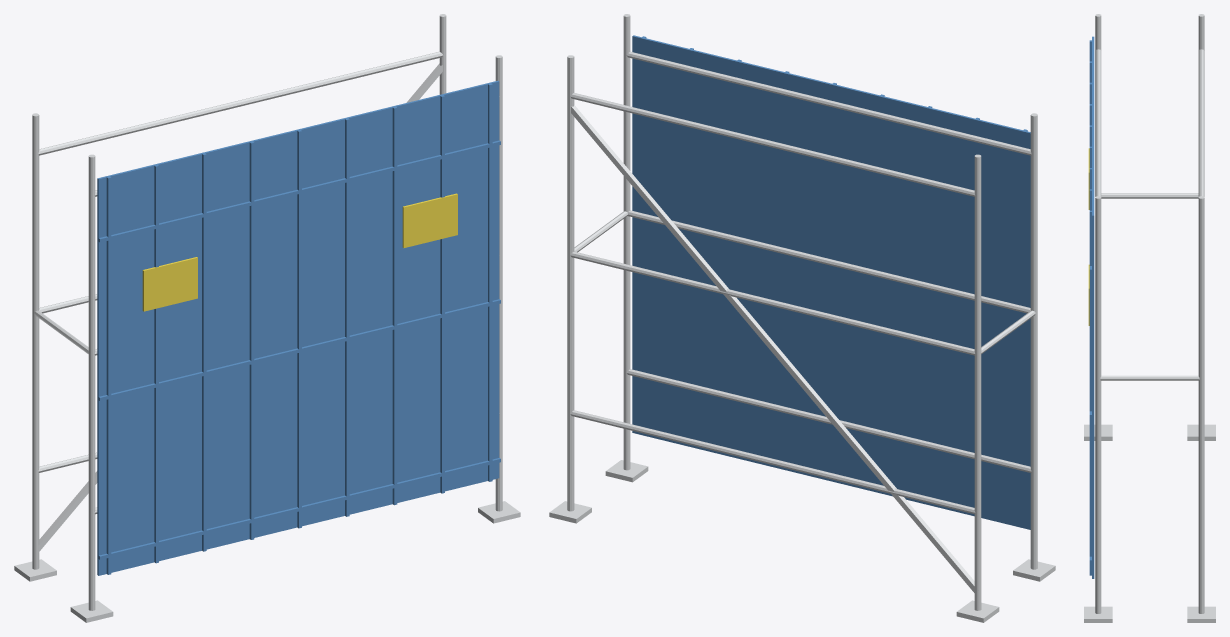
The model's file is demolition-and-site-clearance-demolition-and-site-clea-210c870a__35671.glb.
The picture shows the model from 3 angles, left to right: view 1: azimuth 30°, elevation 25°; view 2: azimuth 150°, elevation 25°; view 3: azimuth 270°, elevation 25°; orthographic projection. The views are drawn at different scales.
Parts seen in each view (by area): view 1: demolition-and-site-clearance-debris-netting-scaffold-bay; view 2: demolition-and-site-clearance-debris-netting-scaffold-bay; view 3: demolition-and-site-clearance-debris-netting-scaffold-bay.
Boxes of the visible parts, x1,y1,x2,y2 form: demolition-and-site-clearance-debris-netting-scaffold-bay: (14,14,520,622); demolition-and-site-clearance-debris-netting-scaffold-bay: (549,14,1055,622); demolition-and-site-clearance-debris-netting-scaffold-bay: (1084,14,1215,622).
Size of the model in its own units: 4.01 by 4.04 by 1.15.
